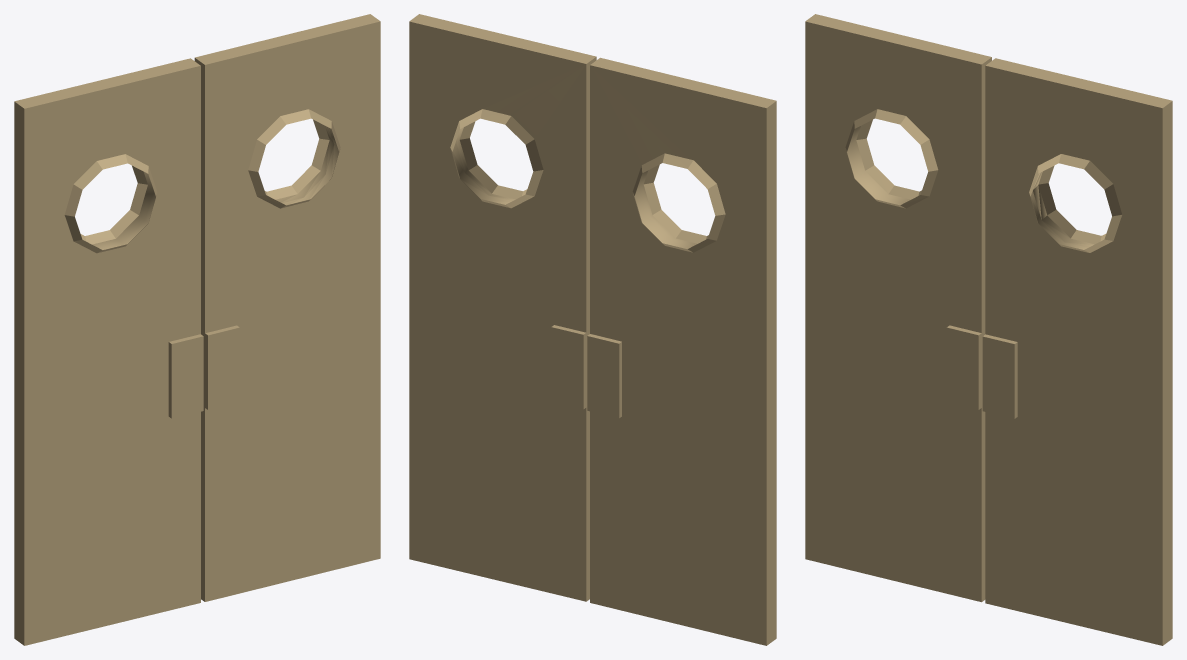
File: puertas.fbx
3 views of the same model, side by side, from view 1: azimuth 30°, elevation 25°; view 2: azimuth 150°, elevation 25°; view 3: azimuth 330°, elevation 25° (orthographic).
Visible parts, largest first — view 1: Box031; view 2: Box031; view 3: Box031.
Boxes of the visible parts, bbox=[...] form: Box031: bbox=[14, 14, 380, 645]; Box031: bbox=[409, 14, 776, 645]; Box031: bbox=[805, 14, 1172, 645].
Size of the model in its own units: 3597 by 5175 by 331.
